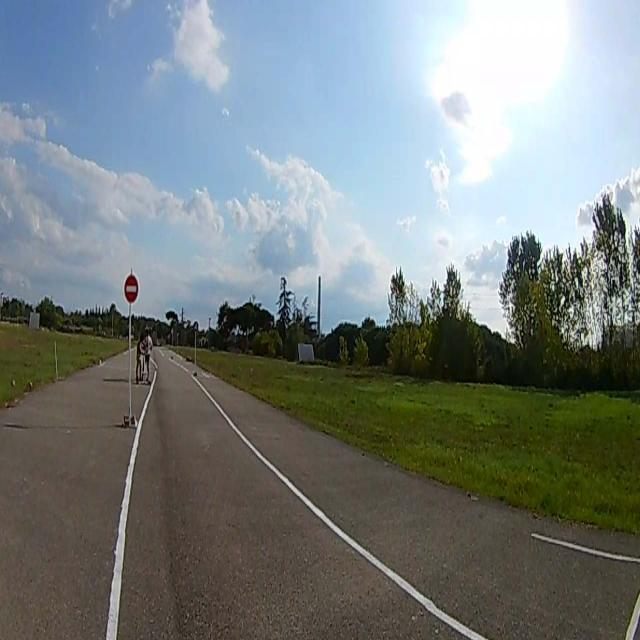girisyok: (124, 276, 138, 300)
